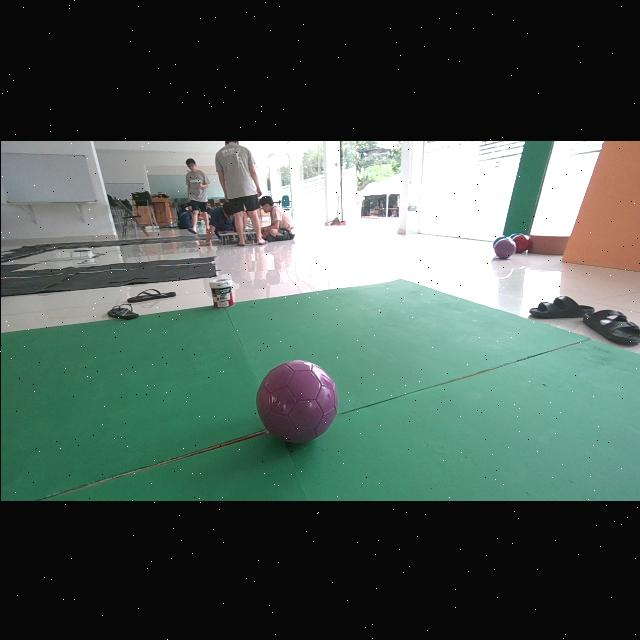B: (492, 235, 506, 245), (507, 231, 523, 238)
P: (256, 360, 338, 443), (492, 236, 515, 258)
R: (511, 234, 530, 251)
